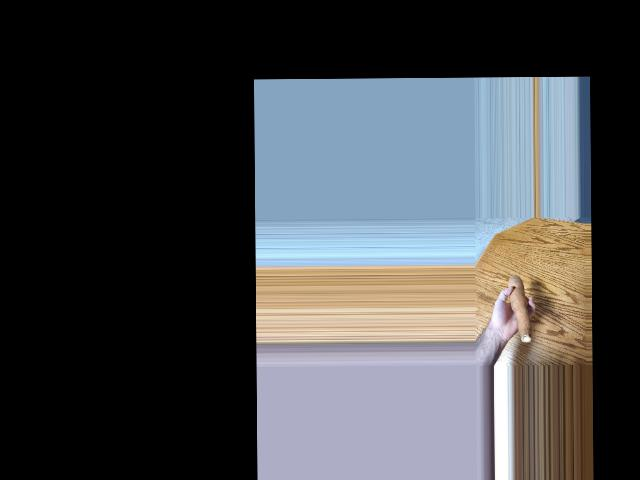sweet_potato: (511, 272, 532, 348)
